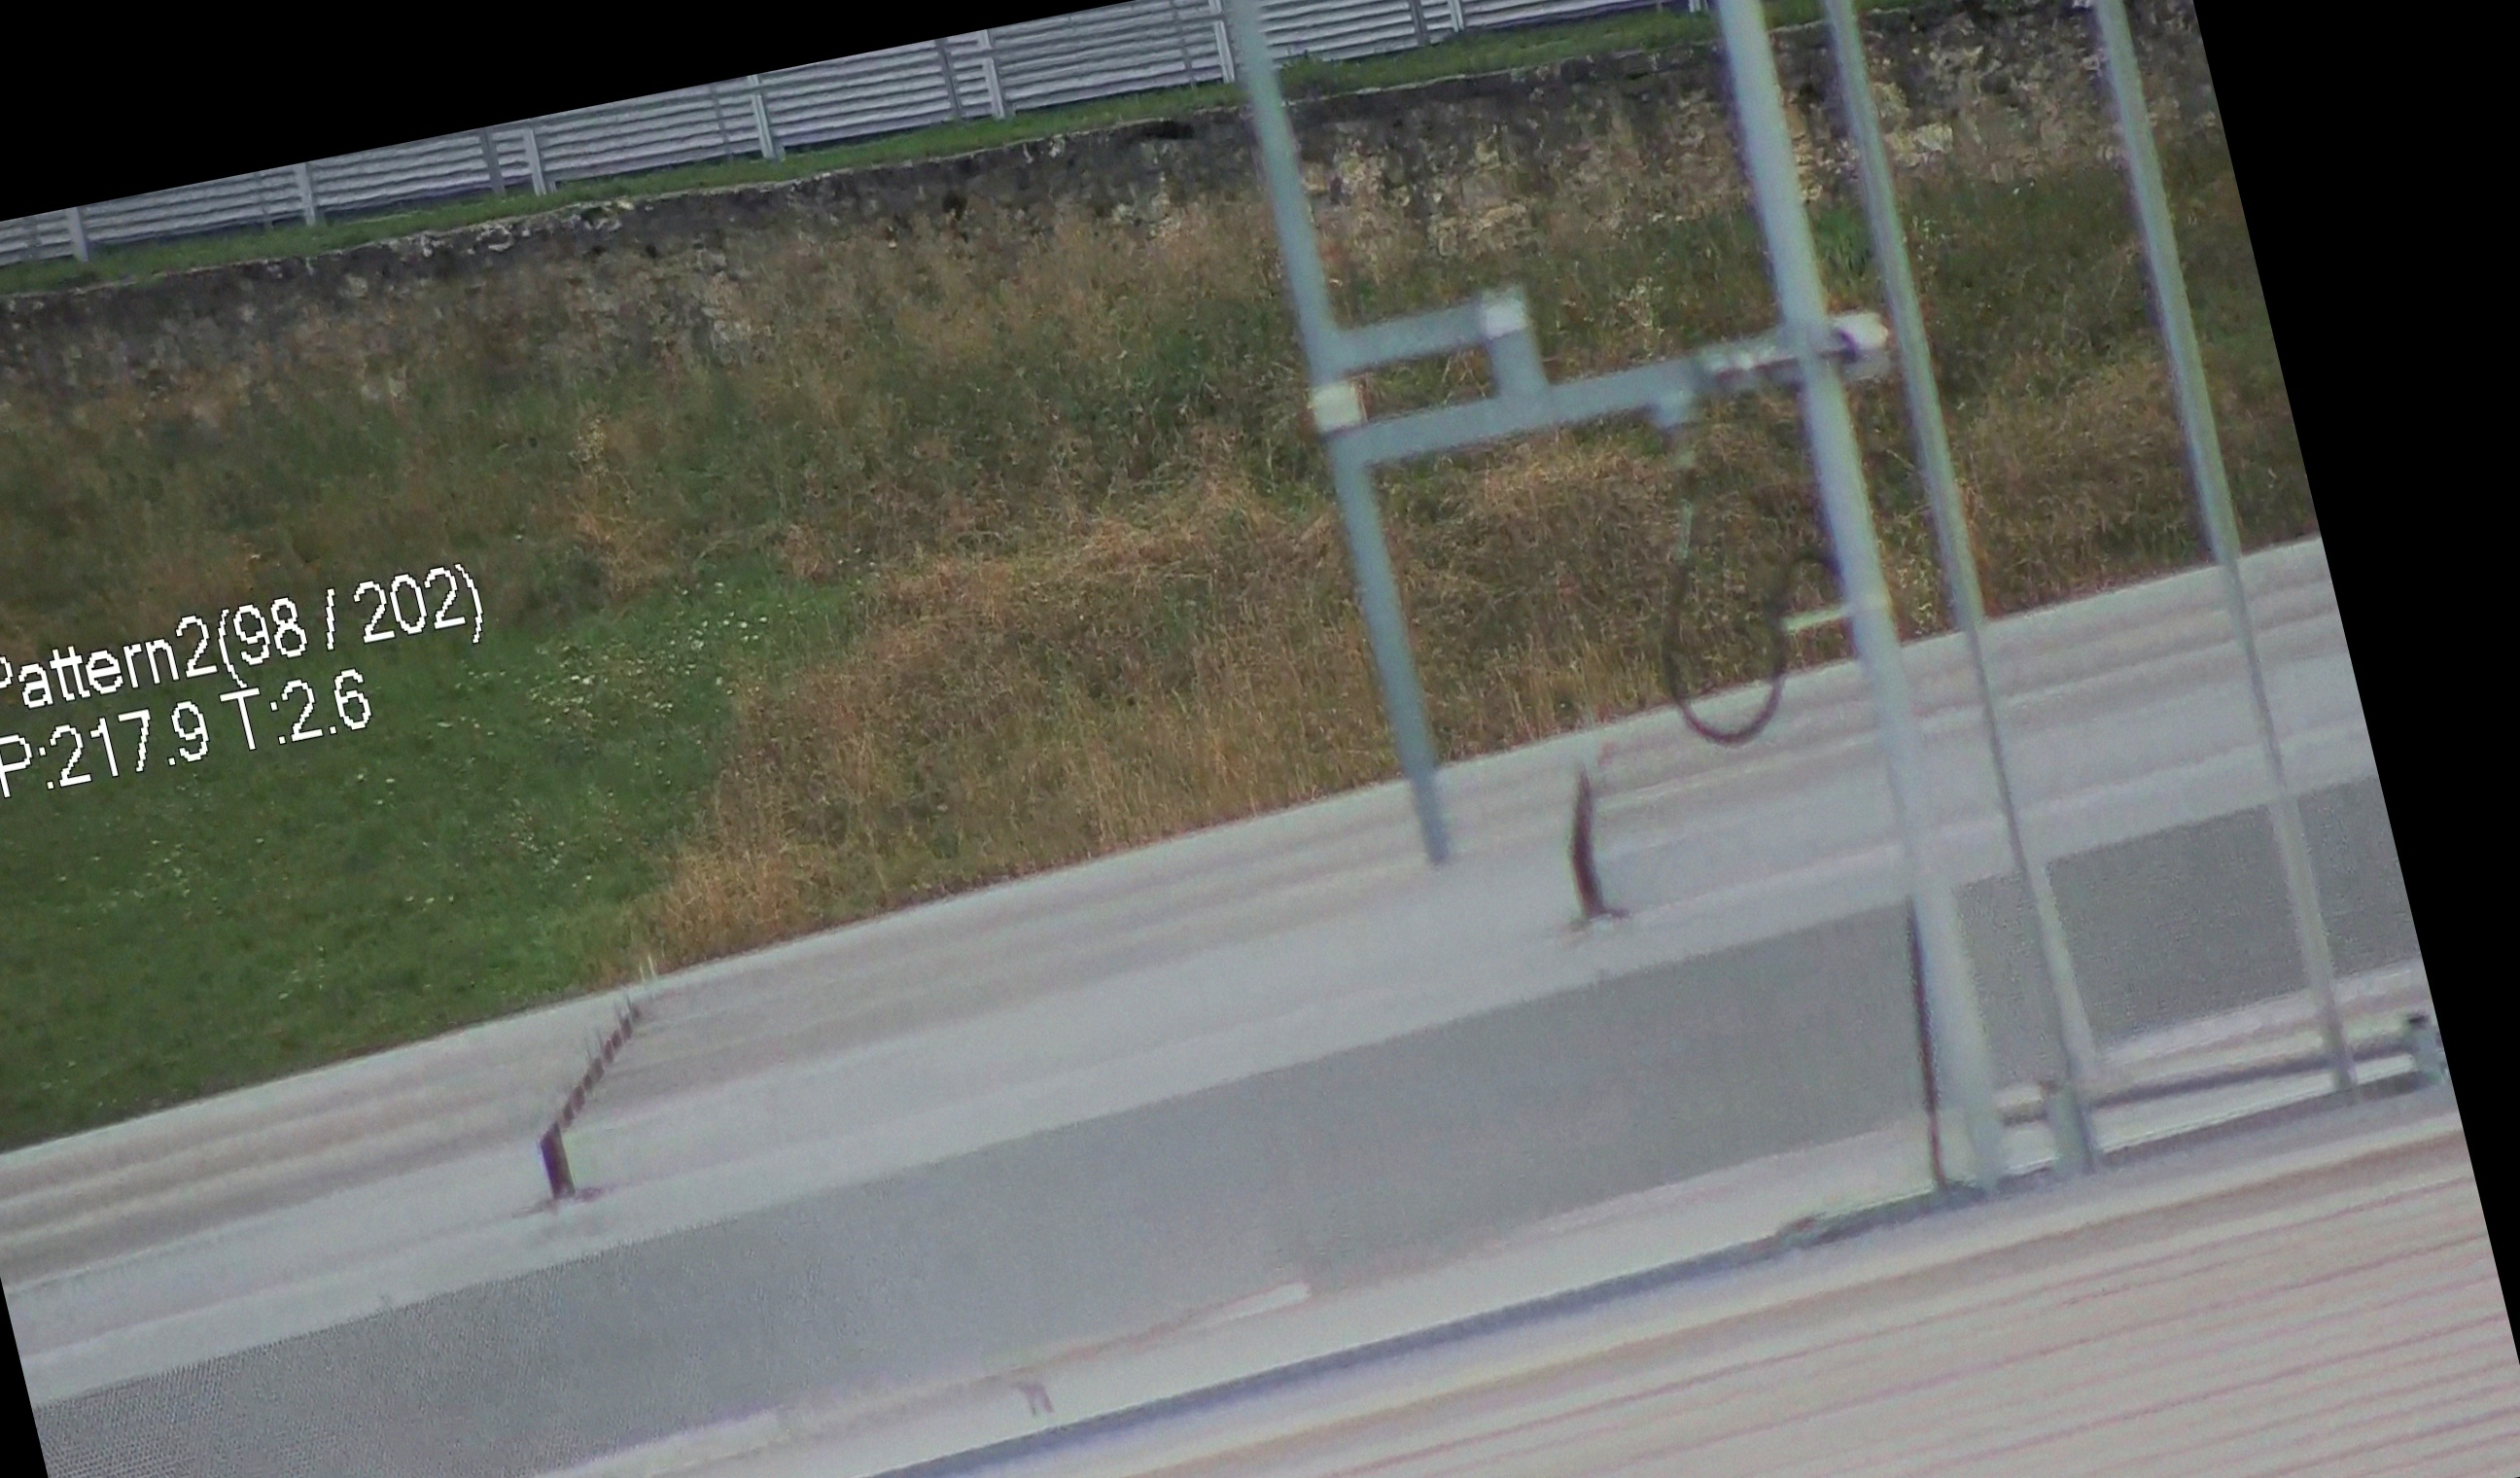Other: (1530, 728, 1655, 945)
